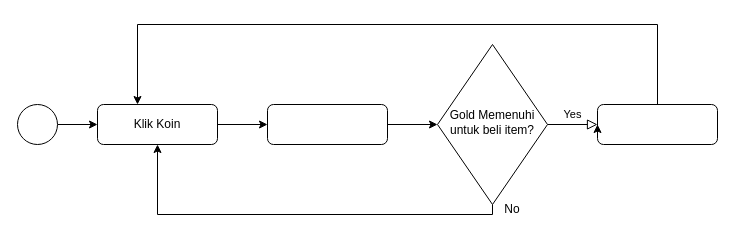
Image size: 735x242. Some labels were removed from this diagram. Here are the shapes that lost their labels. From the top down, the centre of each, then its label:
point (327, 124): Dapat Gold
point (657, 124): Beli Item
